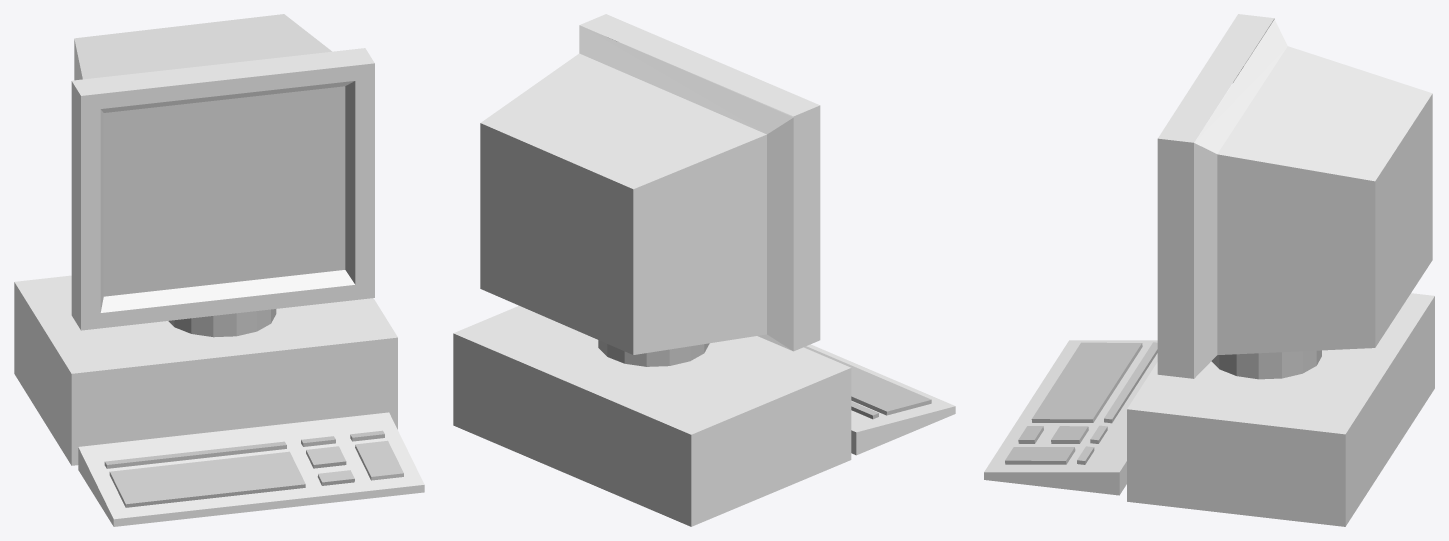
The model's file is computer1.glb.
The picture shows the model from 3 angles, left to right: view 1: azimuth 30°, elevation 25°; view 2: azimuth 150°, elevation 25°; view 3: azimuth 270°, elevation 25°; orthographic projection.
Visible parts, largest first — view 1: Computer, Monitor; view 2: Computer; view 3: Computer.
Part boxes in pixels (<box>): Computer: <box>14,14,424,526</box>; Monitor: <box>103,86,345,296</box>; Computer: <box>453,14,955,526</box>; Computer: <box>984,14,1434,526</box>.
Size of the model in its own units: 86.18 by 80.68 by 91.79.
1 material, 1 textured.
